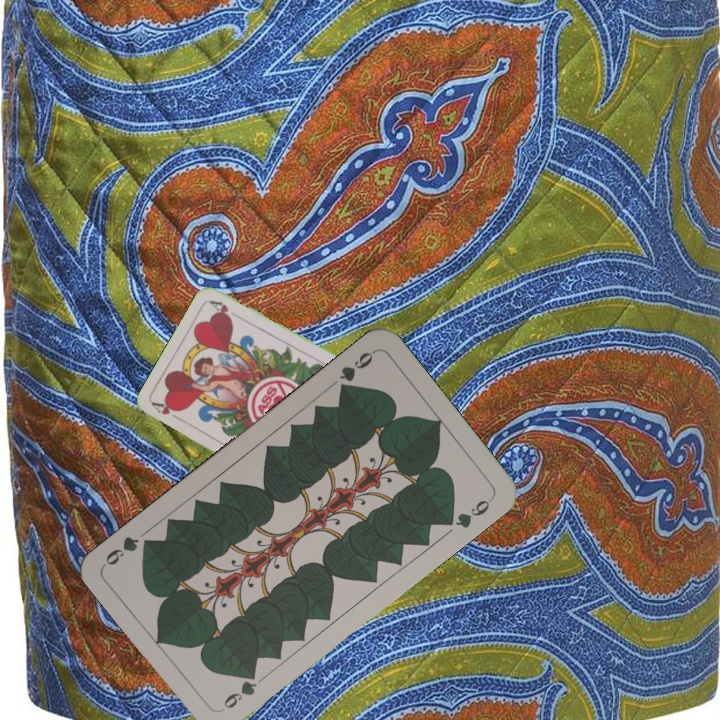G9: (334, 346, 378, 396), (219, 666, 260, 712)
HA: (149, 398, 187, 425)
